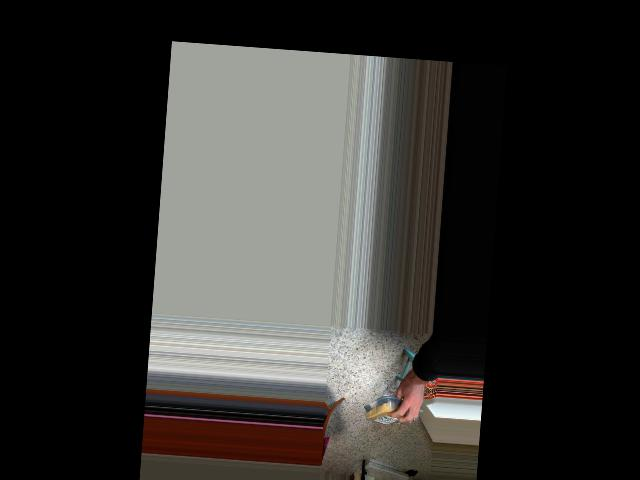cheese: (361, 393, 416, 429)
